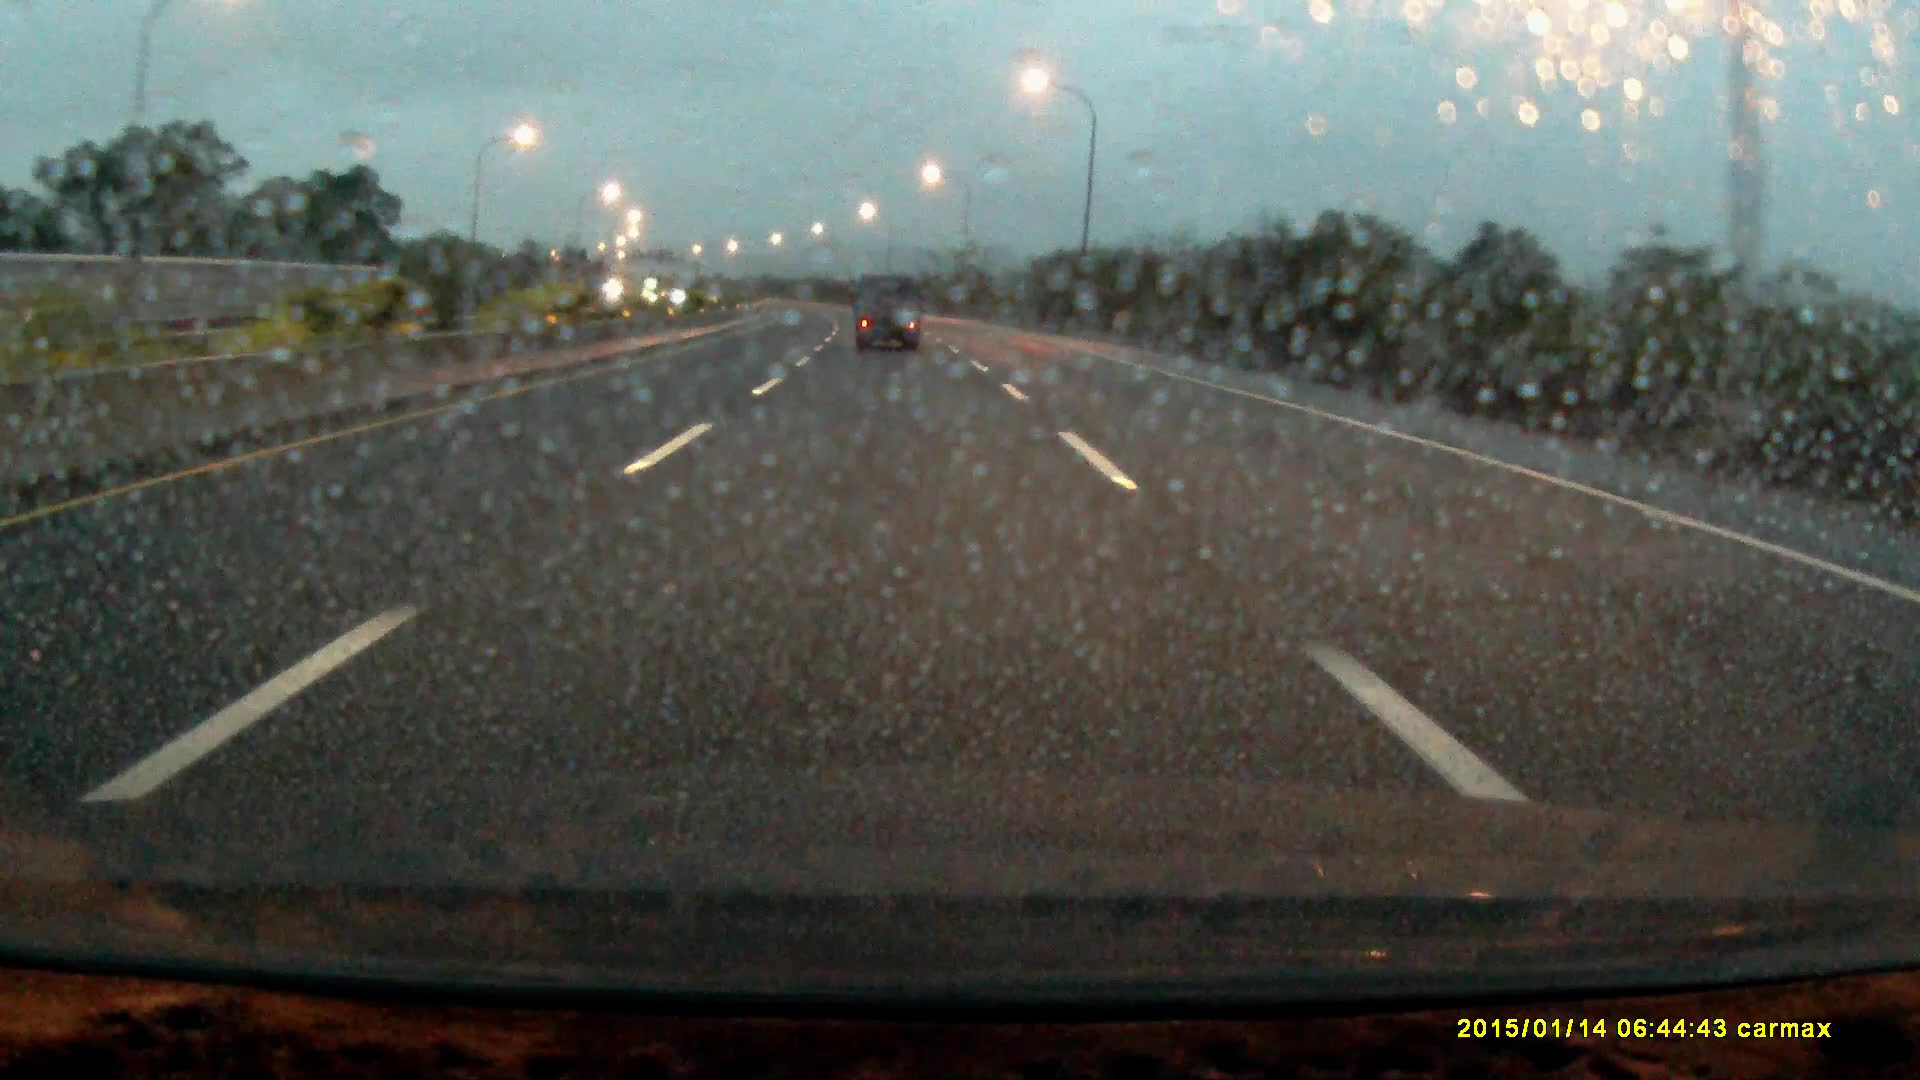vehicle: (853, 272, 922, 353)
